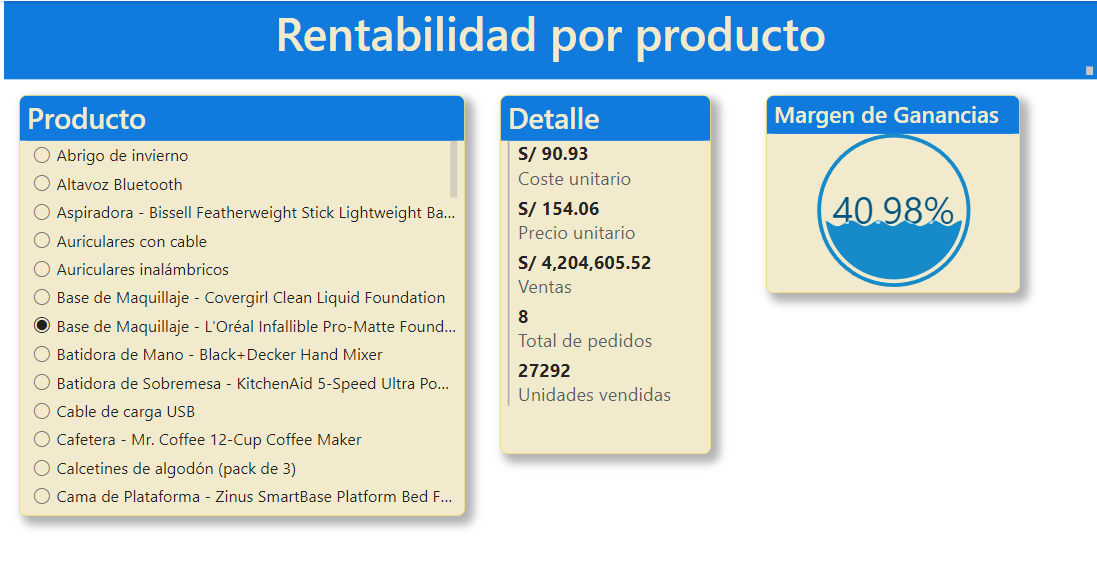

What the dashboard file says about the page in this screenshot:
{"tool":"powerbi","page":{"name":"Página 2","canvas":[1280,720],"ordinal":2},"visuals":[{"type":"textbox","title":"Rentabilidad por producto","box":[10.5,0,1269.5,90.6],"z":0},{"type":"slicer","title":"Producto","fields":{"Values":["PRODUCTO.Producto"]},"box":[27.9,109.2,518,489],"z":1000},{"type":"multiRowCard","title":"Detalle ","fields":{"Values":["PRODUCTO.coste_unitario","PRODUCTO.precio_unitario","MEDIDAS.Ventas","MEDIDAS.Total de pedidos","MEDIDAS.unidades vendidas"]},"box":[586.6,109.2,245.1,417],"z":2000},{"type":"PBI_CV_94E55AB3_5D45_4B62_A49D_19E2109AA031","fields":{"value":["MEDIDAS.Margen de Ganancias"]},"box":[895.5,109.2,295,230],"z":3000}]}

Visuals, with their boxes on the page's 1280x720 design canvas (x1, y1, x2, y2). These are canvas units, not pixel positions in the 1097x569 screenshot, which may show the page scaled, cropped or inside an application window:
"Rentabilidad por producto" textbox: pyautogui.locateOnScreen(10, 0, 1280, 91)
"Producto" slicer: pyautogui.locateOnScreen(28, 109, 546, 598)
"Detalle " multiRowCard: pyautogui.locateOnScreen(587, 109, 832, 526)
PBI_CV_94E55AB3_5D45_4B62_A49D_19E2109AA031 - MEDIDAS.Margen de Ganancias: pyautogui.locateOnScreen(896, 109, 1190, 339)
